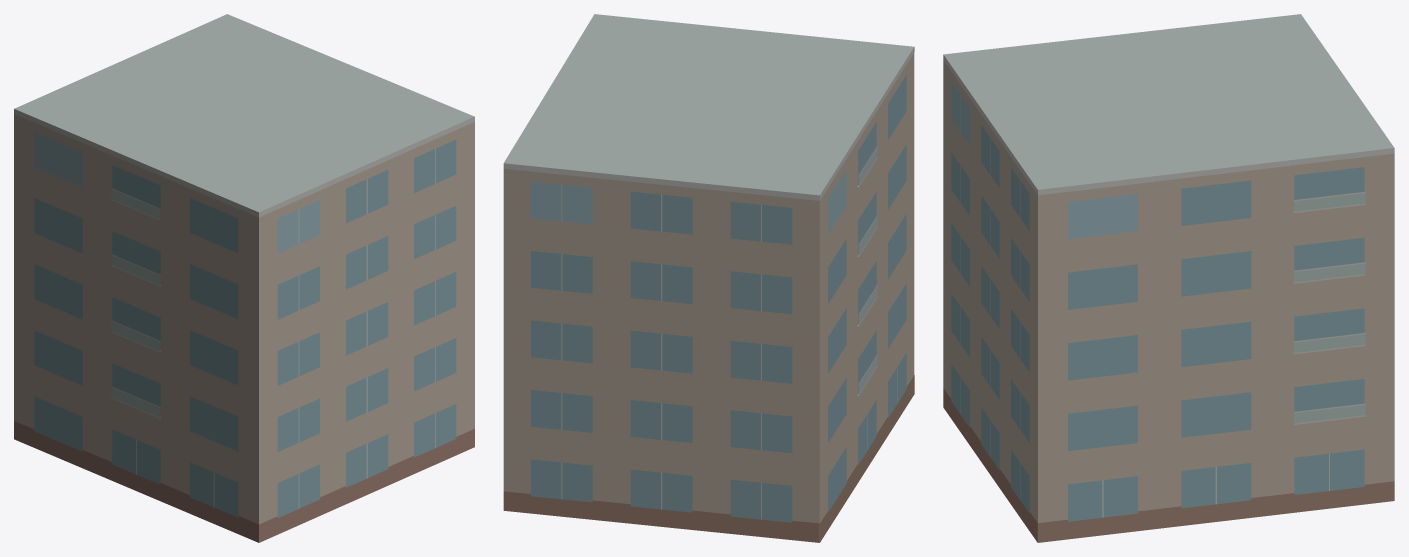
The model's file is survey-upis-32858713.glb.
3 renders of one model, left to right at view 1: azimuth 30°, elevation 25°; view 2: azimuth 150°, elevation 25°; view 3: azimuth 270°, elevation 25°, orthographic. The views are drawn at different scales.
Parts seen in each view (by area): view 1: survey-upis-32858713.tmp; view 2: survey-upis-32858713.tmp; view 3: survey-upis-32858713.tmp.
Part boxes in pixels (x1=…): survey-upis-32858713.tmp: x1=14, y1=14, x2=474, y2=542; survey-upis-32858713.tmp: x1=503, y1=14, x2=914, y2=542; survey-upis-32858713.tmp: x1=943, y1=14, x2=1394, y2=542.
Bounding box in the file's own units: 16.58 × 15.5 × 17.97.
